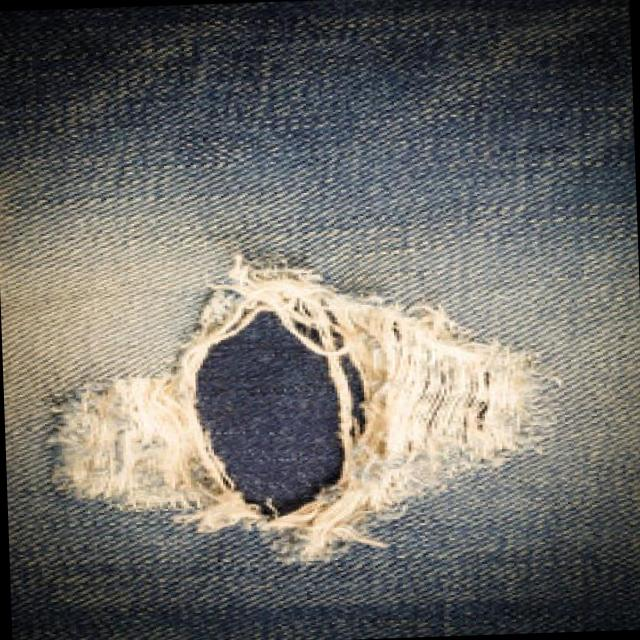hole: (36, 244, 557, 570)
